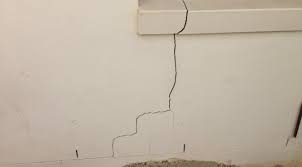crack: (166, 0, 189, 111)
stairstep_crack: (108, 106, 168, 157)
